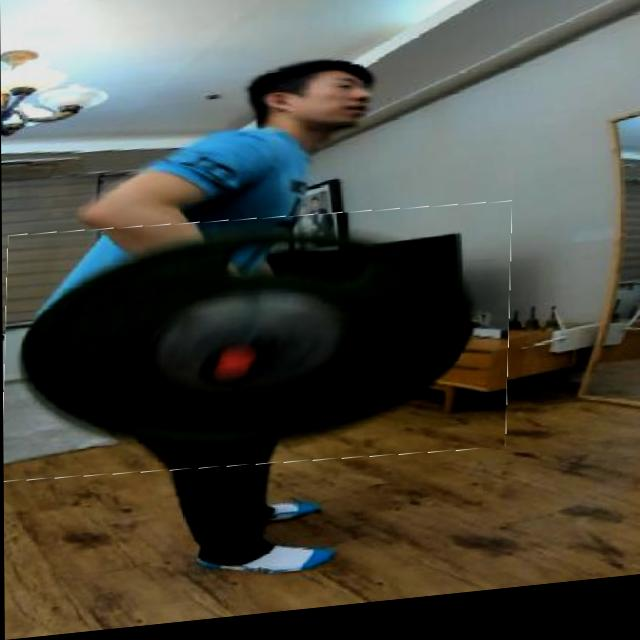barbell: (3, 200, 512, 495)
